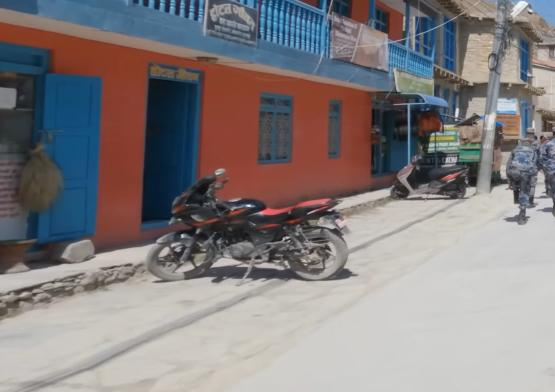bike: (148, 161, 358, 295)
